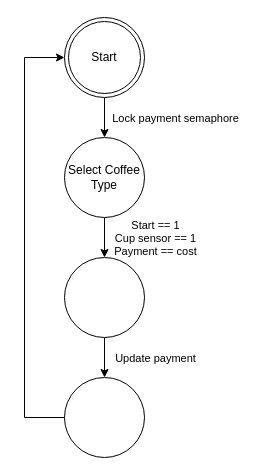
The diagram is 256 pixels wide and 475 high, and some of its shapes have lost their labels. The shapes that lost their labels are listed below. From the top down, each one's centre as x and y in pixels, then its label:
At point (104, 297): "Brew".
At point (104, 417): "Log".
